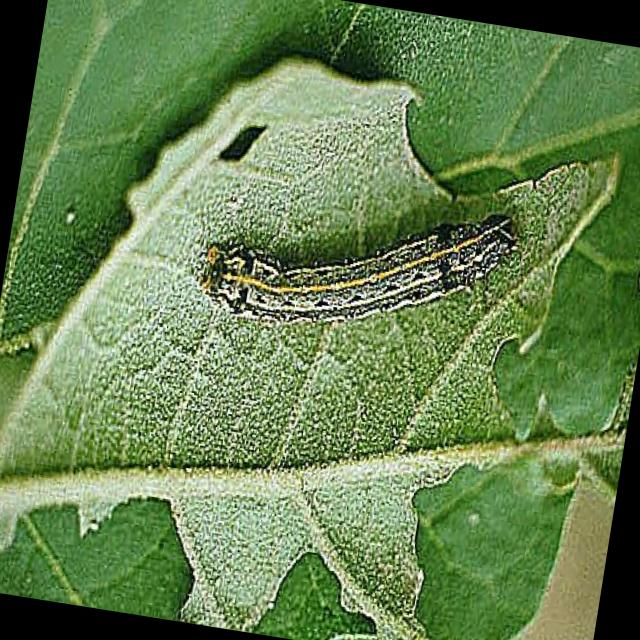Armyworm: (198, 159, 524, 354)
Armyworm_damage: (210, 117, 286, 196)
